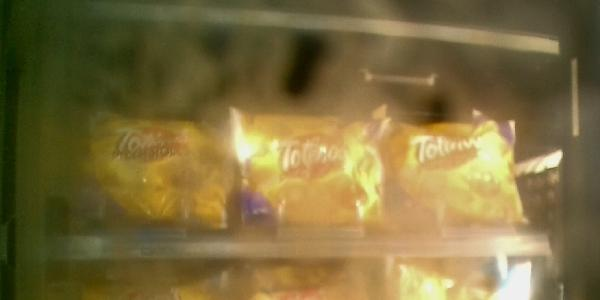icecream: (84, 94, 239, 241), (236, 109, 402, 246), (389, 118, 527, 238)
